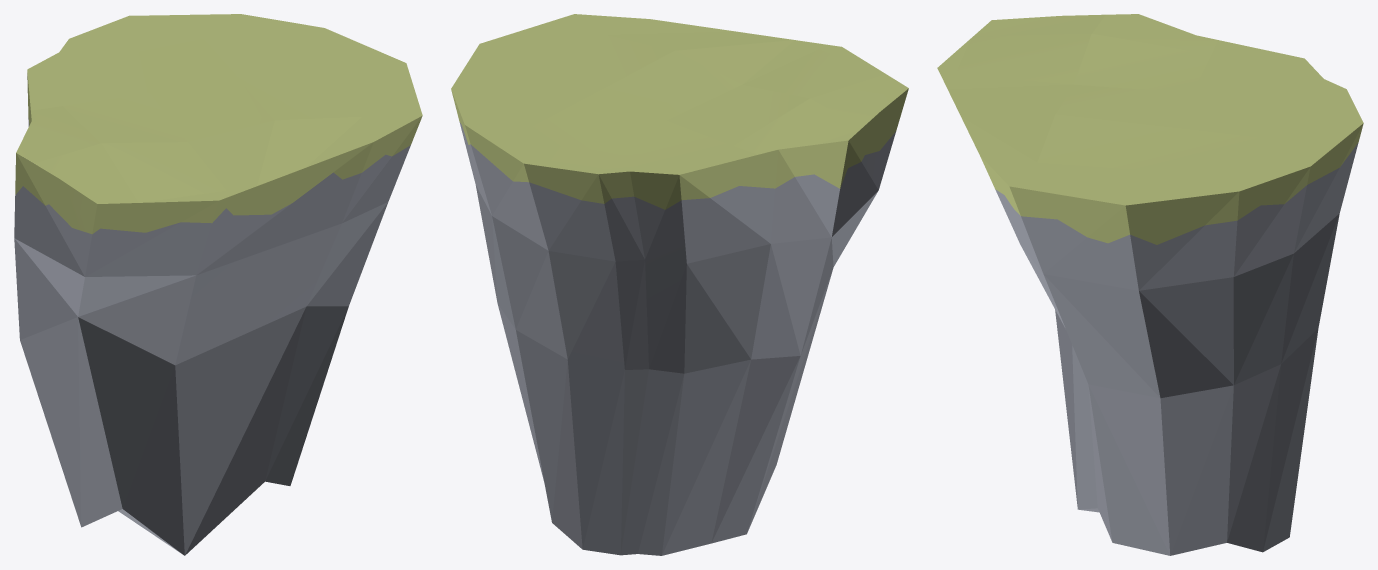
Rendered from Ground.dae.
3 renders of one model, left to right at view 1: azimuth 30°, elevation 25°; view 2: azimuth 150°, elevation 25°; view 3: azimuth 270°, elevation 25°, orthographic. The views are drawn at different scales.
Parts seen in each view (by area): view 1: Land; view 2: Land; view 3: Land.
Boxes of the visible parts, <box> form: Land: <box>14,14,422,555</box>; Land: <box>451,14,908,555</box>; Land: <box>937,14,1363,555</box>.
Bounding box in the file's own units: 4.72 × 4.43 × 5.01.
